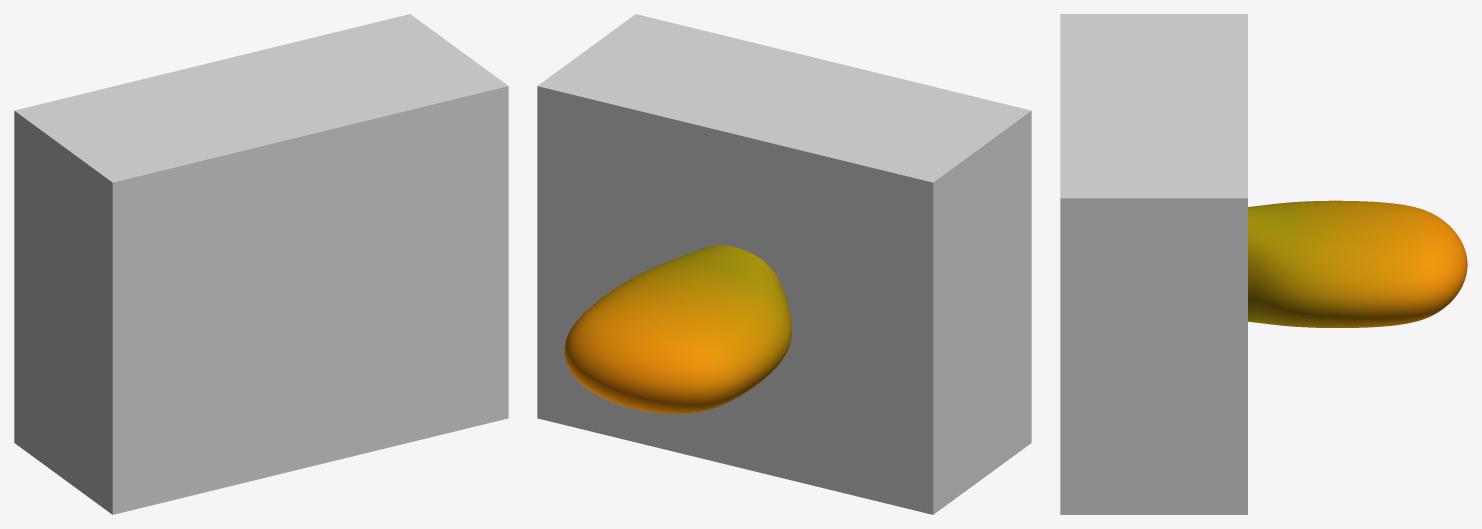
Rendered from Leaf_HI.fbx.
3 renders of one model, left to right at view 1: azimuth 30°, elevation 25°; view 2: azimuth 150°, elevation 25°; view 3: azimuth 270°, elevation 25°, orthographic. The views are drawn at different scales.
Parts seen in each view (by area): view 1: Cube; view 2: Cube, leaf.001; view 3: Cube, leaf.001.
Boxes of the visible parts, x1=… form: Cube: x1=14, y1=14, x2=508, y2=514; Cube: x1=537, y1=14, x2=1031, y2=514; leaf.001: x1=564, y1=245, x2=791, y2=413; Cube: x1=1060, y1=14, x2=1247, y2=514; leaf.001: x1=1248, y1=200, x2=1467, y2=327.
Bounding box in the file's own units: 64.84 × 52 × 60.58.
